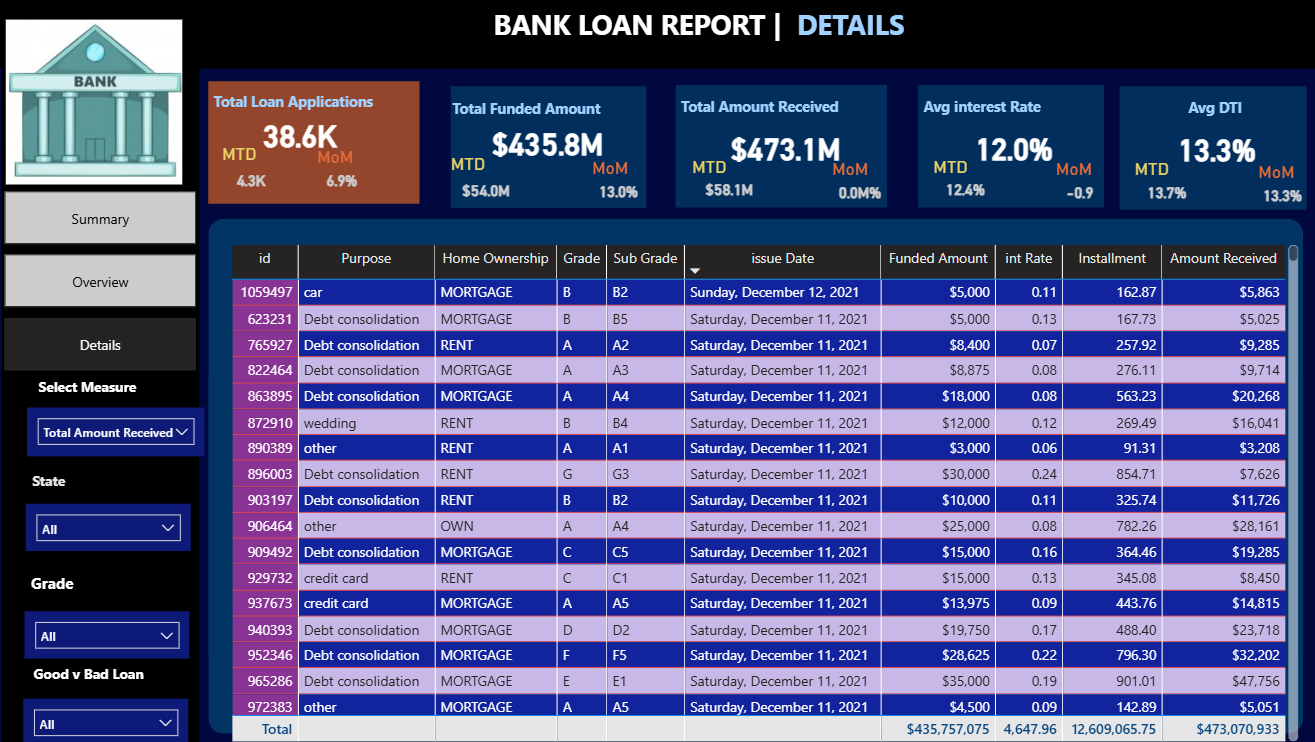

The page's visual inventory and layout, read from the dashboard file:
{"tool":"powerbi","page":{"name":"Details","canvas":[1280,720],"ordinal":2},"visuals":[{"type":"shape","box":[0,0,1280,66.4],"z":0},{"type":"shape","box":[655.1,82,204,118.2],"z":0,"group":"g1"},{"type":"shape","box":[889.1,82,179.3,118.2],"z":0,"group":"g3"},{"type":"shape","box":[438.1,83.2,189,118],"z":0,"group":"g2"},{"type":"shape","box":[1083.4,83.2,180.5,119.4],"z":0,"group":"g4"},{"type":"shape","box":[4.8,65.1,190.6,655.1],"z":1000},{"type":"card","fields":{"Values":["Bank_Loan_Data.Total Funded Amount"]},"box":[470.4,115,122.2,47],"z":1000,"group":"g2"},{"type":"card","fields":{"Values":["Bank_Loan_Data.Total Amount Received"]},"box":[696.7,121.3,128,41.5],"z":1000,"group":"g1"},{"type":"card","fields":{"Values":["Bank_Loan_Data.Avg Interest Rate"]},"box":[925.7,121.3,112.6,41.5],"z":1000,"group":"g3"},{"type":"card","fields":{"Values":["Bank_Loan_Data.Avg DTI"]},"box":[1120.3,122.9,113.3,41.9],"z":1000,"group":"g4"},{"type":"textbox","box":[474.1,0,451.2,66.4],"z":2000},{"type":"card","title":"MoM","fields":{"Values":["Bank_Loan_Data.MoM Total Funded Amount"]},"box":[569.4,152.2,61.1,49.4],"z":2000,"group":"g2"},{"type":"card","title":"MoM","fields":{"Values":["Bank_Loan_Data.MoM Total Amount Recieved"]},"box":[801,153.2,64,43.4],"z":2000,"group":"g1"},{"type":"card","title":"MoM","fields":{"Values":["Bank_Loan_Data.MoM Avg Int Rate"]},"box":[1017.4,153.2,56.3,43.4],"z":2000,"group":"g3"},{"type":"card","title":"MoM","fields":{"Values":["Bank_Loan_Data.MoM Avg DTI"]},"box":[1212.5,155.1,56.7,43.9],"z":2000,"group":"g4"},{"type":"shape","box":[203.9,78.4,203.9,118.2],"z":3000},{"type":"textbox","box":[655.4,87.8,208.4,33.8],"z":3000,"group":"g1"},{"type":"textbox","box":[889.4,87.8,183.3,33.8],"z":3000,"group":"g3"},{"type":"textbox","box":[1083.7,89.1,184.5,34.1],"z":3000,"group":"g4"},{"type":"textbox","box":[434.2,90.4,196.2,30],"z":3000,"group":"g2"},{"type":"textbox","box":[203.9,83.2,176.1,31.4],"z":4000},{"type":"card","title":"MTD","fields":{"Values":["Bank_Loan_Data.MTD Funded Amount"]},"box":[433.1,148.5,78.1,54.2],"z":4000,"group":"g2"},{"type":"card","title":"MTD","fields":{"Values":["Bank_Loan_Data.MTD Total Amount Recieved"]},"box":[665.5,150.8,81.9,48.3],"z":4000,"group":"g1"},{"type":"card","title":"MTD","fields":{"Values":["Bank_Loan_Data.MTD Avg Int Rate"]},"box":[898.2,150.8,72,48.3],"z":4000,"group":"g3"},{"type":"card","title":"MTD","fields":{"Values":["Bank_Loan_Data.MTD Avg DTI"]},"box":[1092.6,152.7,72.5,48.8],"z":4000,"group":"g4"},{"type":"card","title":"MoM","fields":{"Values":["Bank_Loan_Data.MoM Loan Applications"]},"box":[304,141.2,57.9,49.5],"z":5000},{"type":"shape","box":[203.9,211.1,1056.8,497.1],"z":6000},{"type":"card","fields":{"Values":["Bank_Loan_Data.Total Loan Applications"]},"box":[235.3,105,114.6,49.5],"z":7000},{"type":"card","title":"MTD","fields":{"Values":["Bank_Loan_Data.MTD Loan Applications"]},"box":[212.3,138.7,66.4,54.3],"z":8000},{"type":"group","id":"g1","title":"Group 1","box":[655.1,82,209.9,118.2],"z":9000},{"type":"group","id":"g2","title":"Group 1","box":[433.1,83.2,197.4,119.4],"z":10000},{"type":"group","id":"g3","title":"Group 1","box":[889.1,82,183.4,118.2],"z":11000},{"type":"group","id":"g4","title":"Group 1","box":[1083.4,83.2,185.8,119.4],"z":12000},{"type":"slicer","fields":{"Values":["Bank_Loan_Data.address_state"]},"box":[27.7,486.2,159.3,45.8],"z":13000},{"type":"textbox","box":[29,450,78.4,36.2],"z":14000},{"type":"slicer","fields":{"Values":["Bank_Loan_Data.grade"]},"box":[26.5,589.9,159.3,45.8],"z":15000},{"type":"textbox","box":[27.7,547.7,78.4,33.8],"z":16000},{"type":"slicer","fields":{"Values":["Bank_Loan_Data.purpose"]},"box":[25.3,674.4,159.3,45.8],"z":17000},{"type":"textbox","box":[30.2,635.8,136.3,38.6],"z":18000},{"type":"slicer","fields":{"Values":["Select Measure.Select Measure"]},"box":[29,393.3,171.3,47.1],"z":19000},{"type":"textbox","box":[35,359.5,136.3,33.8],"z":20000},{"type":"tableEx","fields":{"Values":["Bank_Loan_Data.id","Bank_Loan_Data.purpose","Bank_Loan_Data.home_ownership","Bank_Loan_Data.grade","Bank_Loan_Data.sub_grade","Bank_Loan_Data.issue_date","Bank_Loan_Data.Total Funded Amount","Sum(Bank_Loan_Data.int_rate)","Sum(Bank_Loan_Data.installment)","Bank_Loan_Data.Total Amount Received"]},"box":[220.8,231.6,1040,488.6],"z":21000},{"type":"image","box":[8.4,15.7,170.1,165.3],"z":22000},{"type":"pageNavigator","box":[7.2,184.6,185.8,174.9],"z":23000}]}

Visuals, with their boxes in screenshot pixels (x1, y1, x2, y2), scaled from the page's 1280x720 canvas onto the 1315x742 screenshot:
shape: l=0, t=0, r=1314, b=68
shape: l=673, t=85, r=883, b=206
shape: l=913, t=85, r=1098, b=206
shape: l=450, t=86, r=644, b=207
shape: l=1113, t=86, r=1298, b=209
shape: l=5, t=67, r=201, b=741
card - Bank_Loan_Data.Total Funded Amount: l=483, t=119, r=609, b=167
card - Bank_Loan_Data.Total Amount Received: l=716, t=125, r=847, b=168
card - Bank_Loan_Data.Avg Interest Rate: l=951, t=125, r=1067, b=168
card - Bank_Loan_Data.Avg DTI: l=1151, t=127, r=1267, b=170
textbox: l=487, t=0, r=951, b=68
"MoM" card: l=585, t=157, r=648, b=208
"MoM" card: l=823, t=158, r=889, b=203
"MoM" card: l=1045, t=158, r=1103, b=203
"MoM" card: l=1246, t=160, r=1304, b=205
shape: l=209, t=81, r=419, b=203
textbox: l=673, t=90, r=887, b=125
textbox: l=914, t=90, r=1102, b=125
textbox: l=1113, t=92, r=1303, b=127
textbox: l=446, t=93, r=648, b=124
textbox: l=209, t=86, r=390, b=118
"MTD" card: l=445, t=153, r=525, b=209
"MTD" card: l=684, t=155, r=768, b=205
"MTD" card: l=923, t=155, r=997, b=205
"MTD" card: l=1122, t=157, r=1197, b=208
"MoM" card: l=312, t=146, r=372, b=197
shape: l=209, t=218, r=1295, b=730
card - Bank_Loan_Data.Total Loan Applications: l=242, t=108, r=359, b=159
"MTD" card: l=218, t=143, r=286, b=199
"Group 1" group: l=673, t=85, r=889, b=206
"Group 1" group: l=445, t=86, r=648, b=209
"Group 1" group: l=913, t=85, r=1102, b=206
"Group 1" group: l=1113, t=86, r=1304, b=209
slicer - Bank_Loan_Data.address_state: l=28, t=501, r=192, b=548
textbox: l=30, t=464, r=110, b=501
slicer - Bank_Loan_Data.grade: l=27, t=608, r=191, b=655
textbox: l=28, t=564, r=109, b=599
slicer - Bank_Loan_Data.purpose: l=26, t=695, r=190, b=741
textbox: l=31, t=655, r=171, b=695
slicer - Select Measure.Select Measure: l=30, t=405, r=206, b=454
textbox: l=36, t=370, r=176, b=405
tableEx - Bank_Loan_Data.id x Bank_Loan_Data.purpose: l=227, t=239, r=1295, b=741
image: l=9, t=16, r=183, b=187
pageNavigator: l=7, t=190, r=198, b=370
